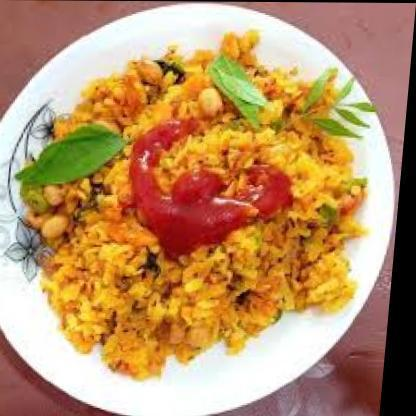poha: (10, 27, 386, 382)
